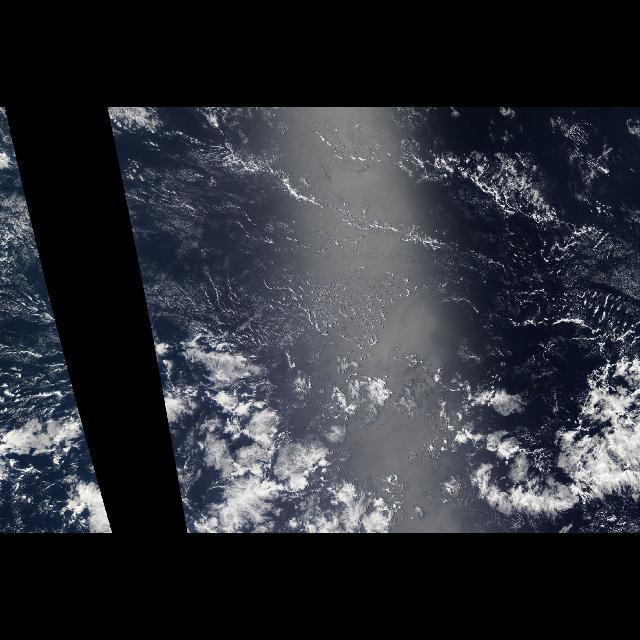Flower: (165, 378, 328, 478)
Gravel: (462, 152, 546, 222)
Sugar: (109, 118, 495, 352), (1, 138, 61, 338)
